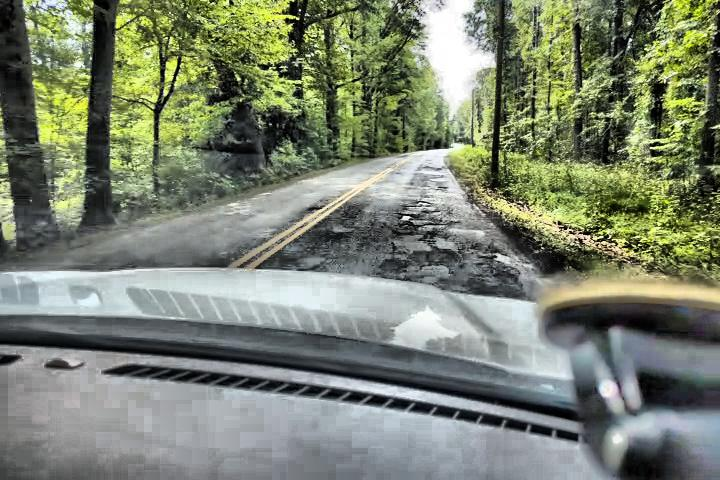pothole: (493, 246, 512, 266), (434, 184, 454, 193)
